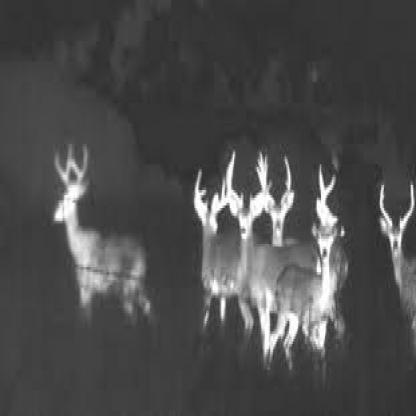rehkitze: (232, 154, 345, 373), (49, 146, 154, 320), (190, 166, 236, 332), (373, 181, 412, 318)
